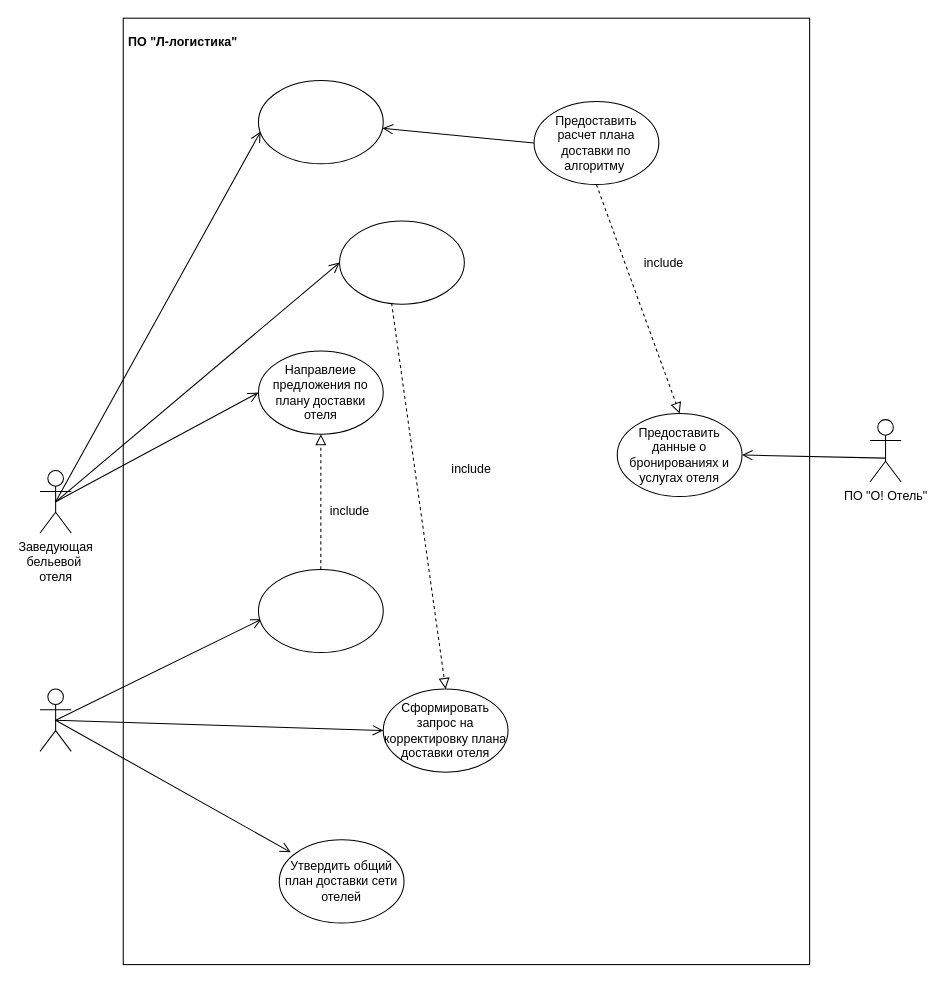
This 944x983 diagram has some shape labels left out. Each missing label, with the box of its shape:
Корректировка предложения по плану доставки отеля: (339, 220, 464, 304)
Менеджер отдела логистики прачечной сети: (39, 688, 71, 751)
Ознакомиться с общим планом доставки сети отелей: (257, 568, 383, 653)
Формирование предложения по плану доставки отеля: (257, 80, 383, 164)
